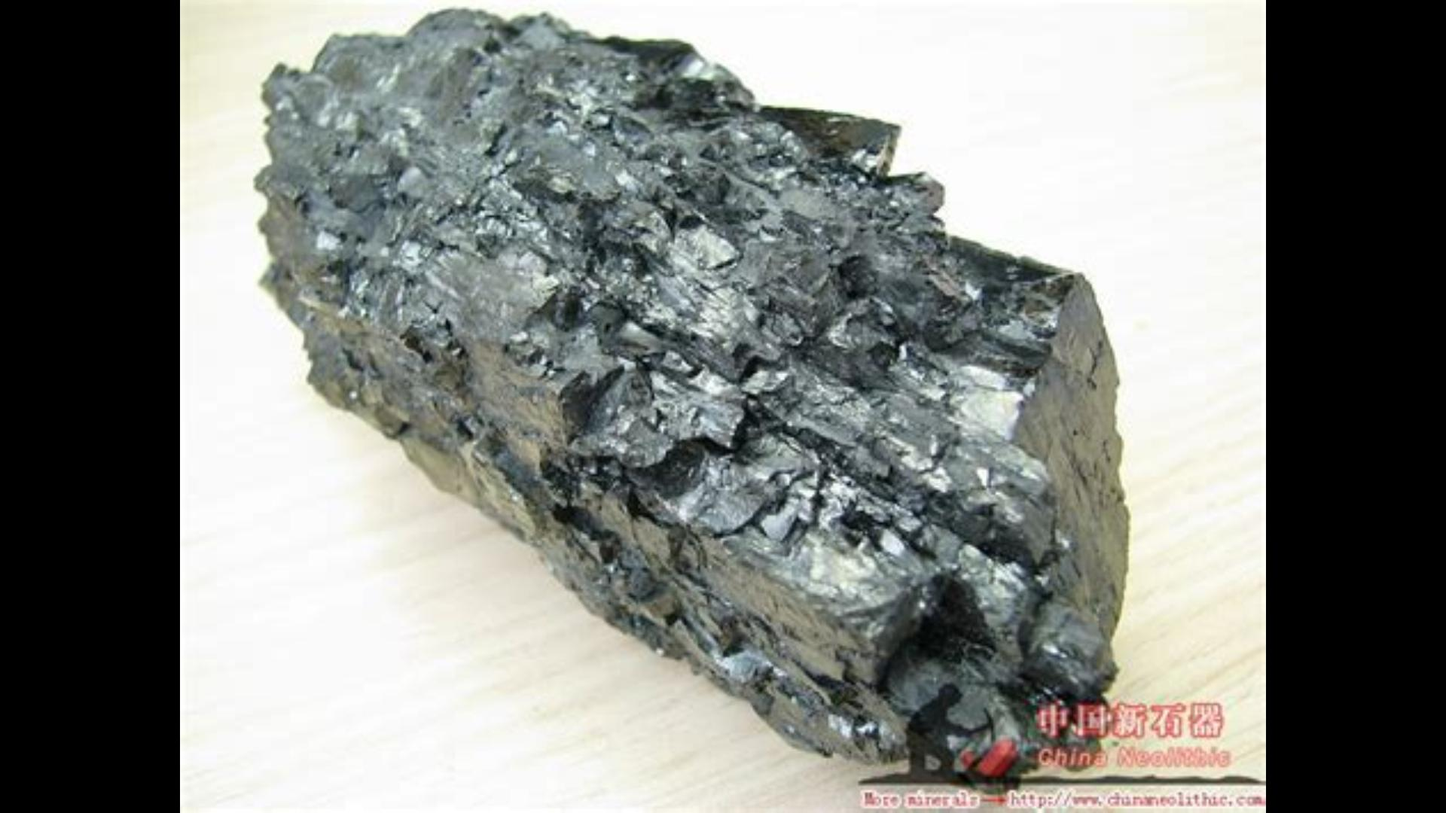rock: (258, 11, 1126, 776)
